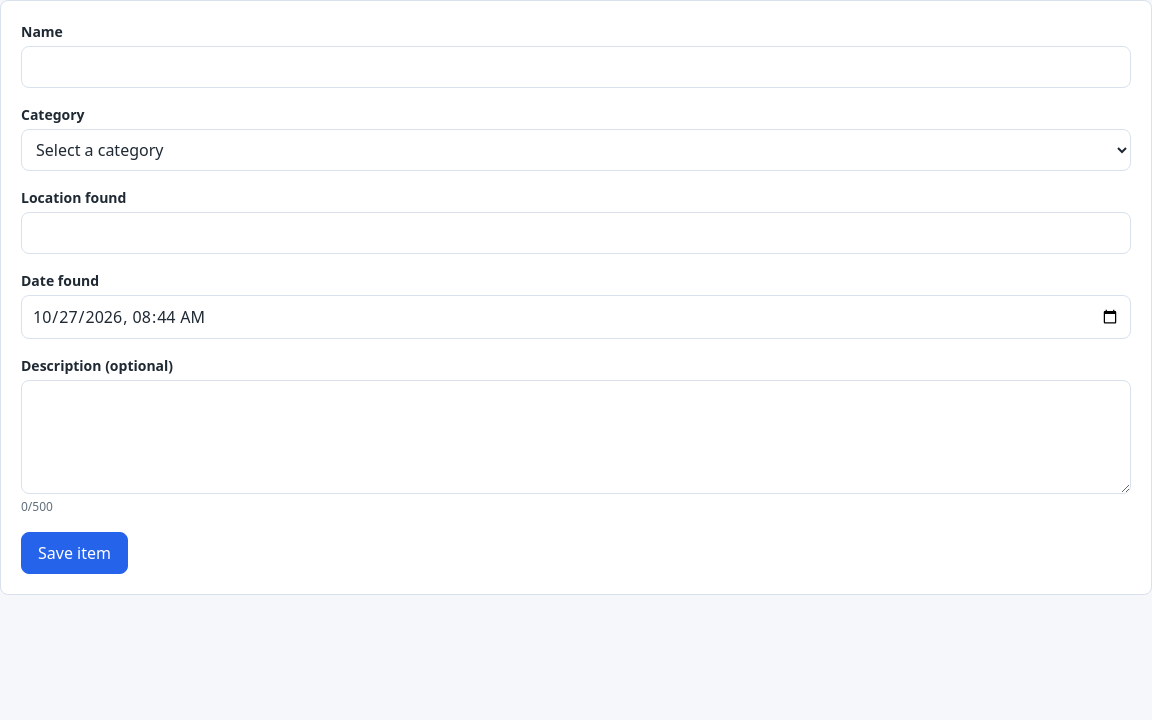
Test: ItemForm › shows field errors and does not submit an invalid form
Type "U" into the field labelled "Name" at (576, 67), box [21,46,1131,88]
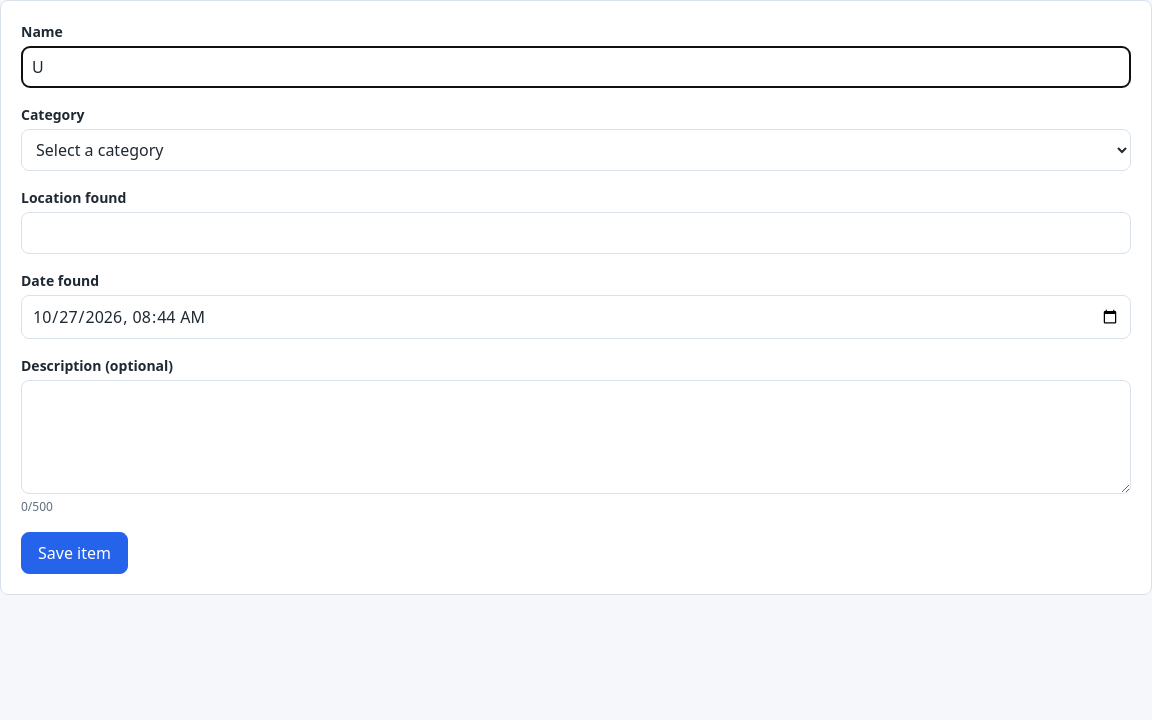
Click the button "Save item" at (74, 553), box [21,532,128,574]
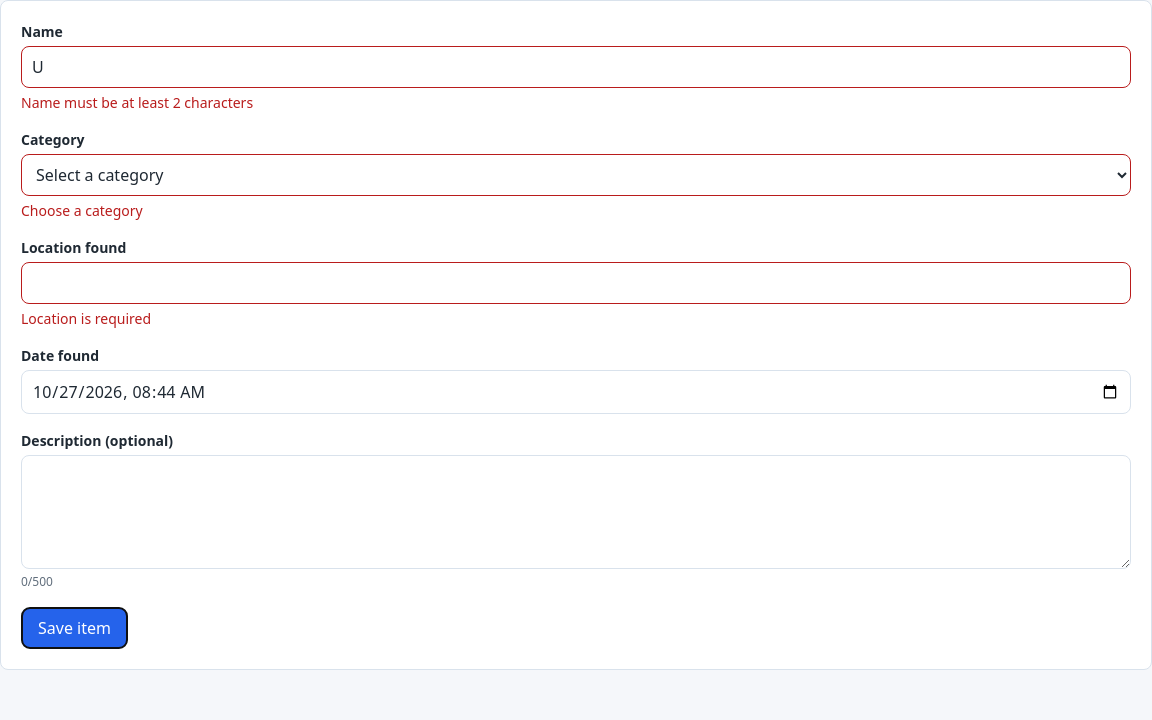
Now the text "Name must be at least 2 characters" is shown, box [21,93,253,112]
Now the text "Choose a category" is shown, box [21,201,143,220]
Now the text "Location is required" is shown, box [21,309,151,328]
